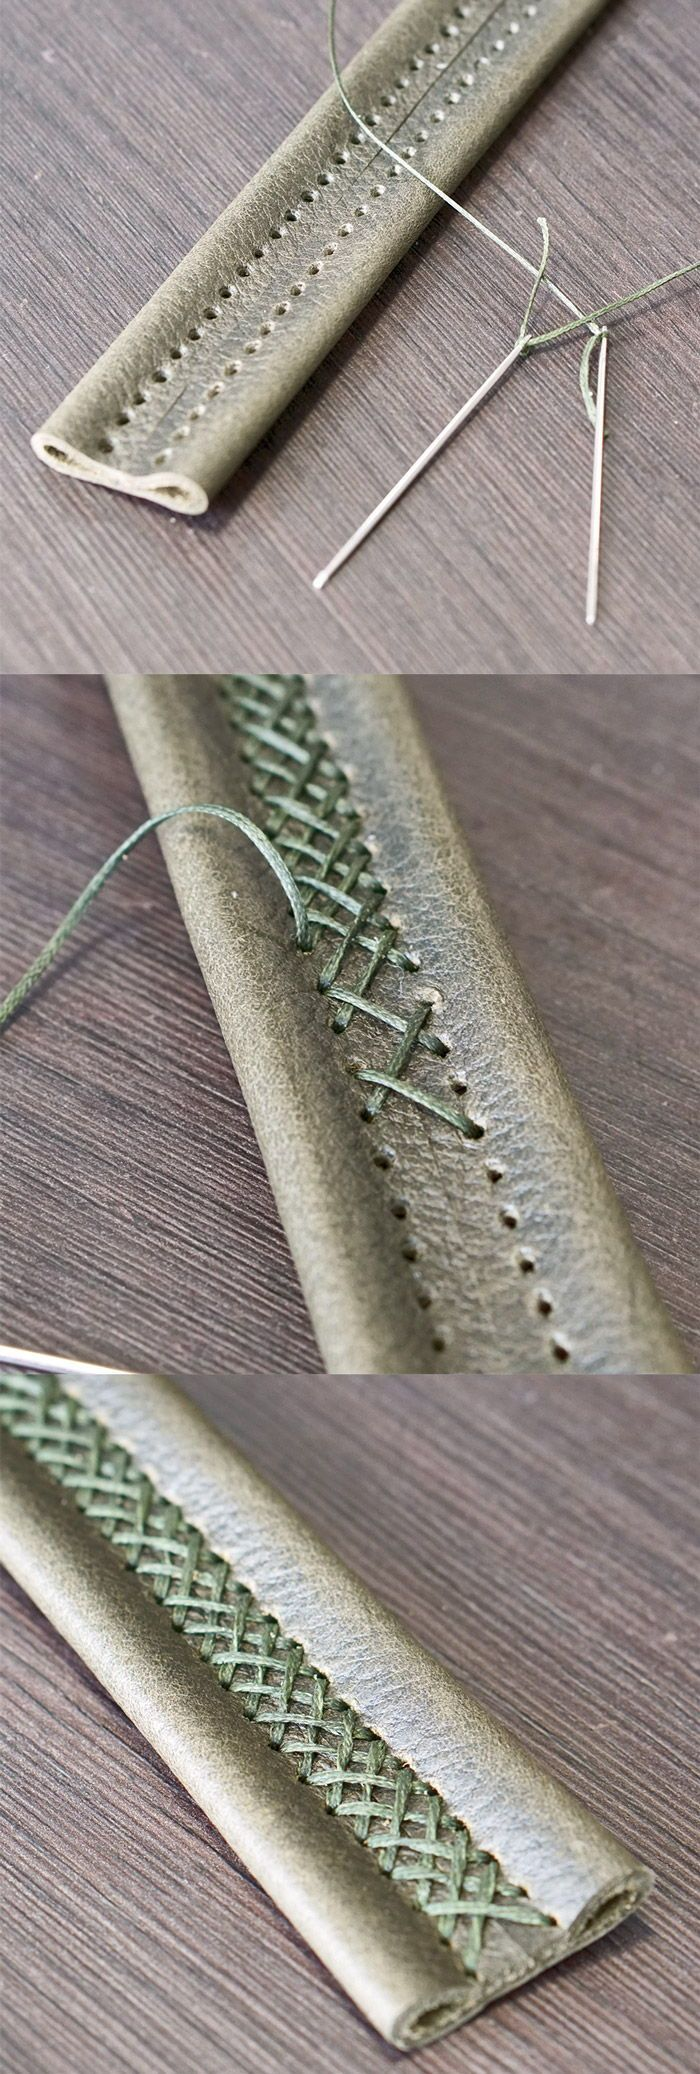cuero: (7, 8, 685, 2048)
